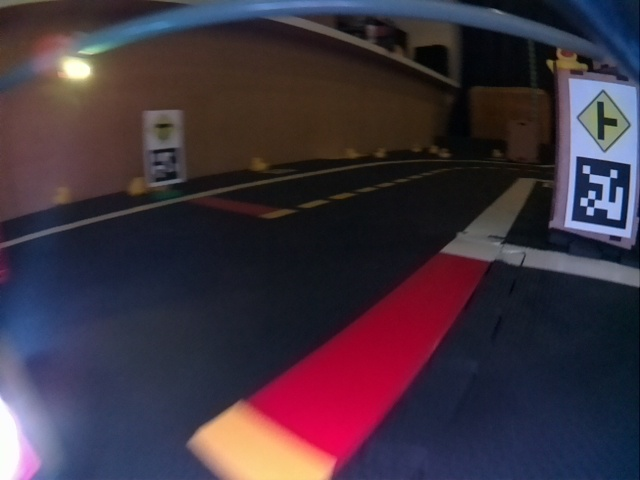Duckie: (546, 46, 588, 73), (128, 177, 147, 196), (52, 188, 71, 204), (253, 157, 266, 171), (345, 149, 357, 160), (376, 148, 385, 158), (432, 145, 439, 154), (440, 149, 447, 158), (413, 145, 419, 153)
Intersection sign: (575, 91, 633, 152), (151, 114, 179, 141)
QR code: (570, 157, 631, 231), (149, 147, 181, 182)
